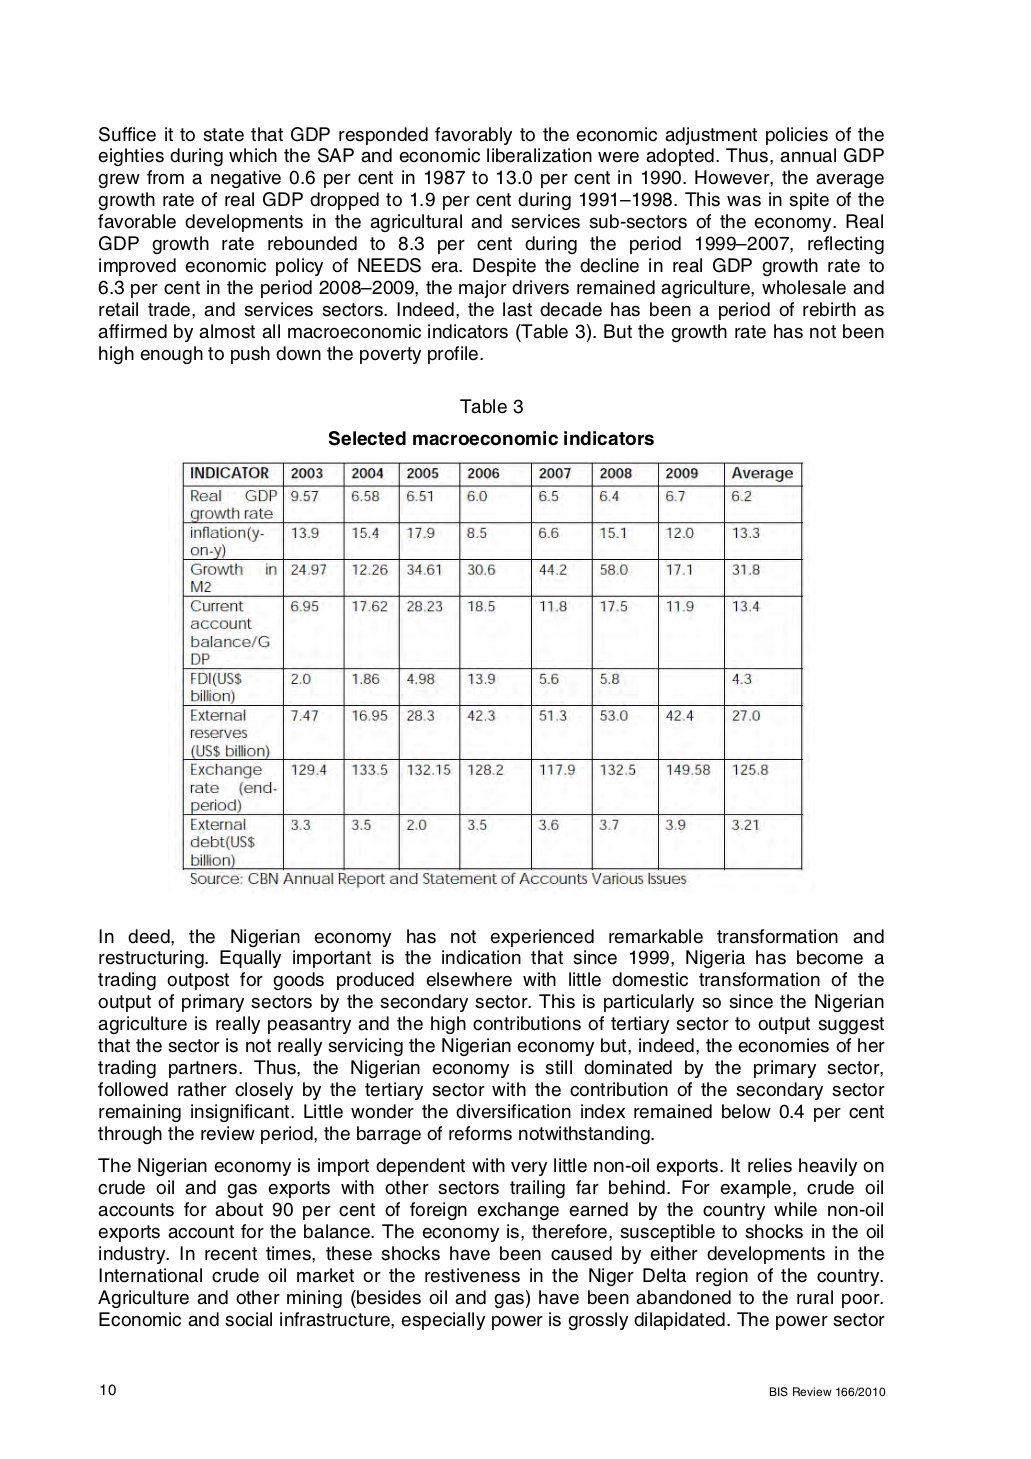Table: (179, 460, 804, 888)
